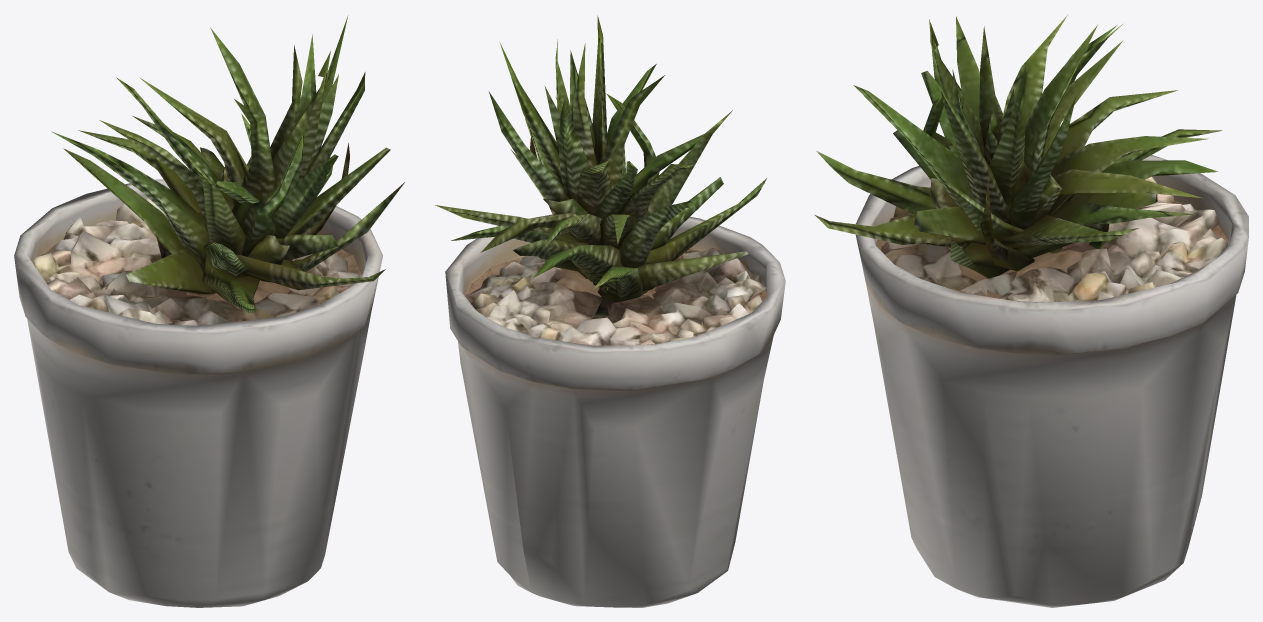
Rendered from potted_plant_04.glb.
3 renders of one model, left to right at view 1: azimuth 30°, elevation 25°; view 2: azimuth 150°, elevation 25°; view 3: azimuth 270°, elevation 25°, orthographic. The views are drawn at different scales.
Visible parts, largest first — view 1: potted_plant_04_ground; view 2: potted_plant_04_ground; view 3: potted_plant_04_ground.
Boxes of the visible parts, box(x1,y1,x2,y2) form: potted_plant_04_ground: box(14, 15, 404, 607); potted_plant_04_ground: box(435, 15, 785, 607); potted_plant_04_ground: box(815, 15, 1248, 607).
Size of the model in its own units: 0.1669 by 0.2671 by 0.1831.
1 material, 1 textured.
